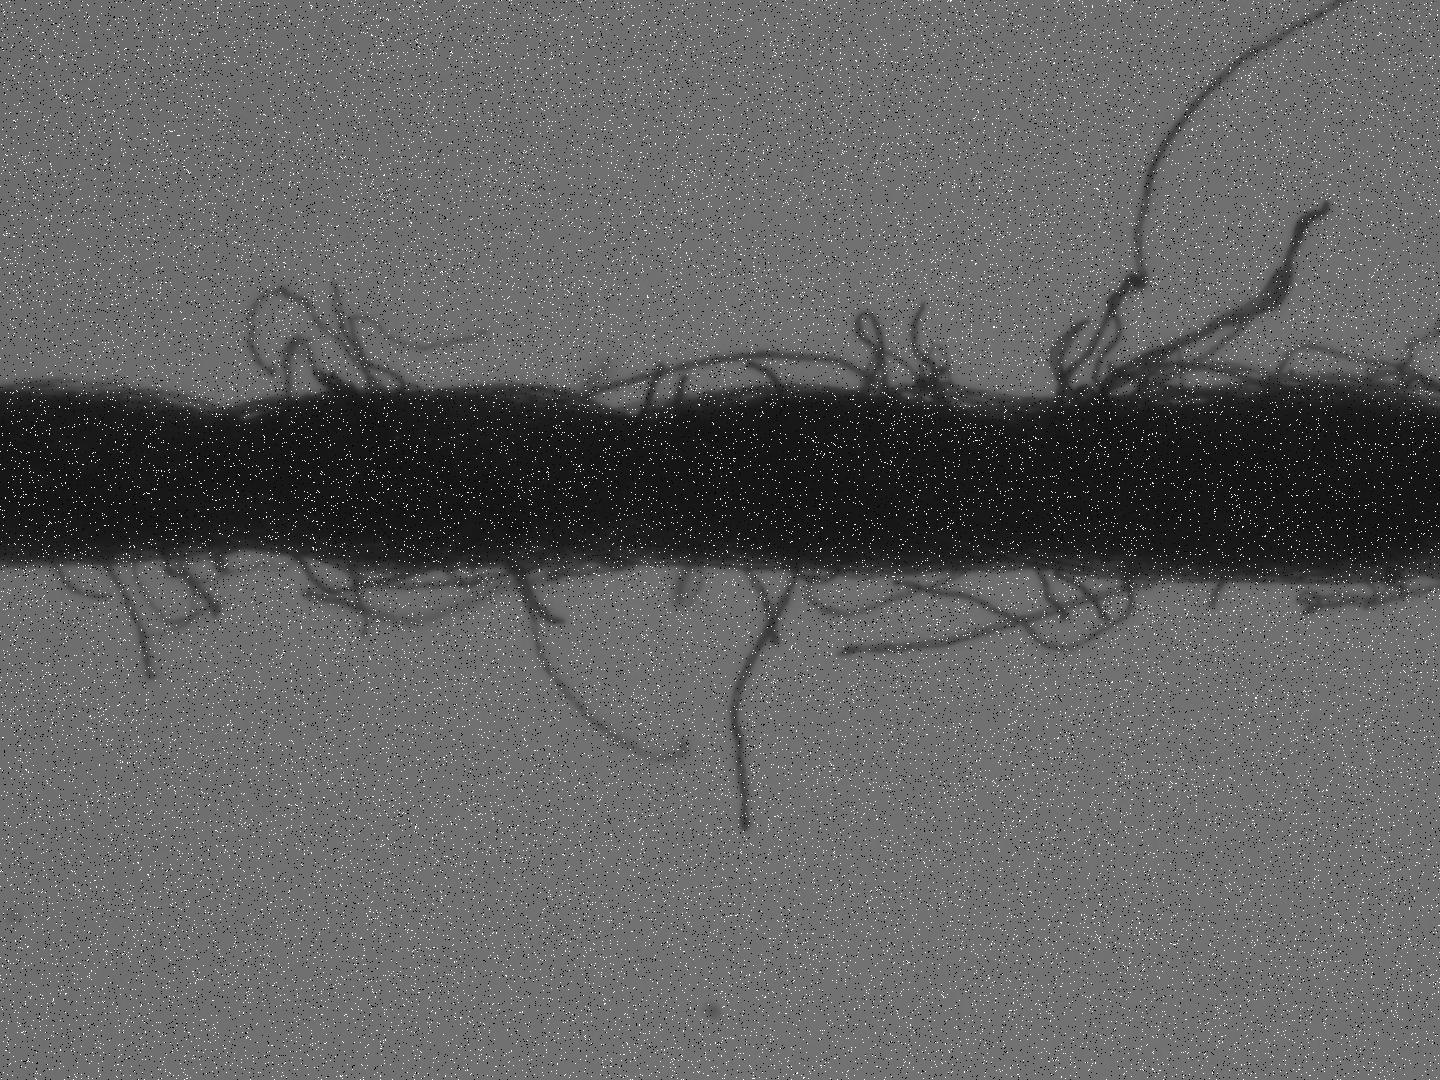loop_fiber: (1041, 196, 1336, 417), (543, 347, 900, 425), (847, 295, 1013, 420), (100, 548, 234, 686), (261, 526, 481, 602), (771, 552, 975, 621), (273, 328, 375, 423), (1288, 560, 1415, 625)
protruding_fiber: (501, 548, 694, 770), (723, 551, 801, 830)
